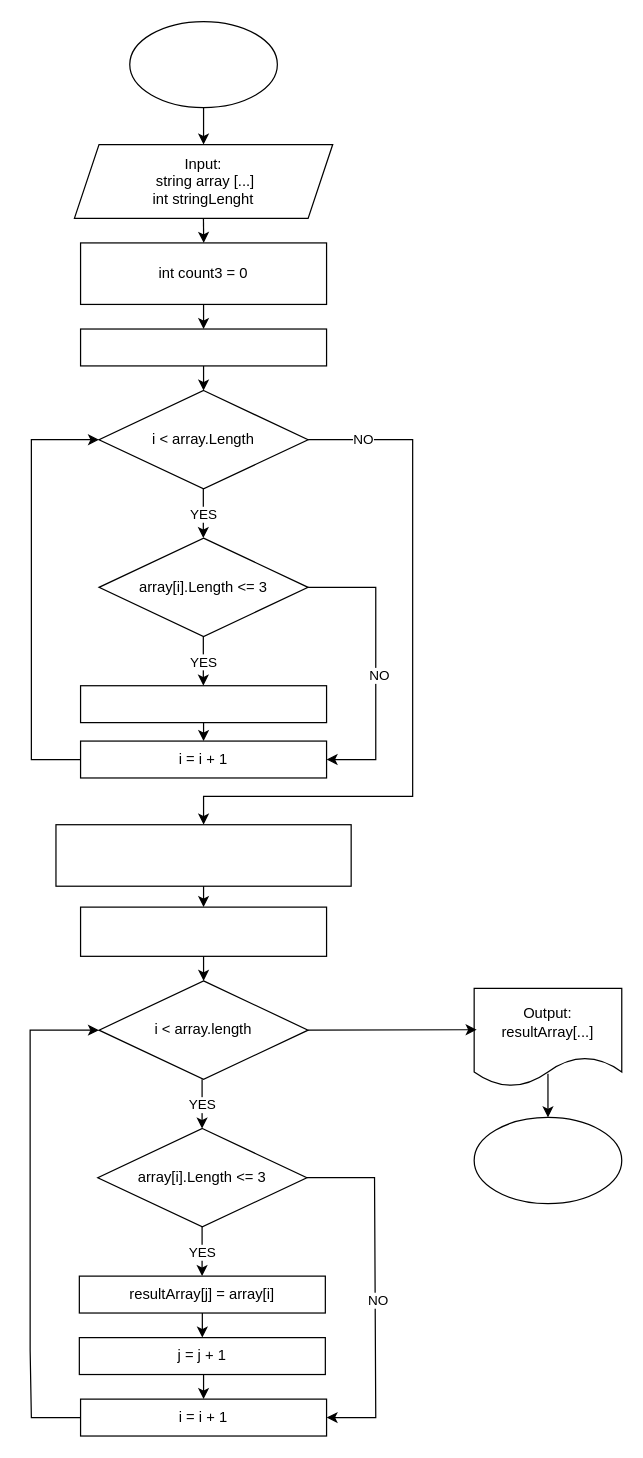
Some shapes in this 643 by 1458 pixel diagram are drawn without their labels. The centre of each missing label's shape, as x and y in pixels:
"count3 = count3 + 1" goes at (x=203, y=703).
"End" goes at (x=547, y=1160).
"i = 0" goes at (x=203, y=347).
"i = 0 j = 0" goes at (x=203, y=931).
"Start" goes at (x=203, y=64).
"string resultArray[] = new string [count3]" goes at (x=203, y=854).
